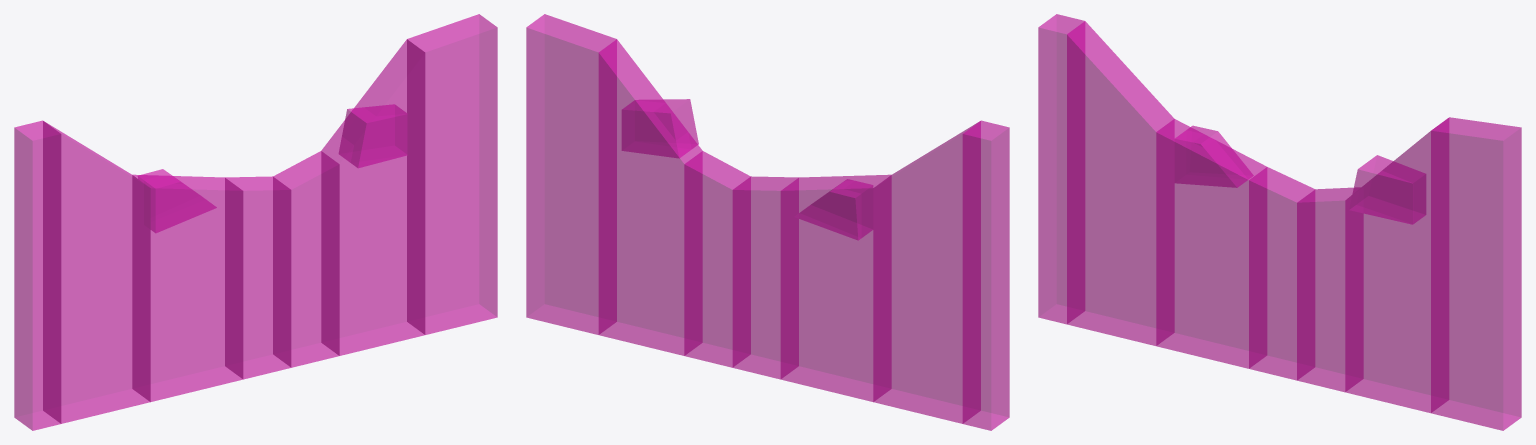
Rendered from SM_Bld_Wall_L_Damaged_Double_02_Alt_01_Collision.fbx.
3 renders of one model, left to right at view 1: azimuth 30°, elevation 25°; view 2: azimuth 150°, elevation 25°; view 3: azimuth 330°, elevation 25°, orthographic.
Visible parts, largest first — view 1: SM_Bld_Wall_L_Damaged_Double_02_Alt_01_Collision; view 2: SM_Bld_Wall_L_Damaged_Double_02_Alt_01_Collision; view 3: SM_Bld_Wall_L_Damaged_Double_02_Alt_01_Collision.
Part boxes in pixels (box(x1,y1,x2,y2)): SM_Bld_Wall_L_Damaged_Double_02_Alt_01_Collision: box(14, 14, 497, 430); SM_Bld_Wall_L_Damaged_Double_02_Alt_01_Collision: box(526, 14, 1009, 430); SM_Bld_Wall_L_Damaged_Double_02_Alt_01_Collision: box(1038, 14, 1521, 430).
Bounding box in the file's own units: 1011 × 603 × 121.
